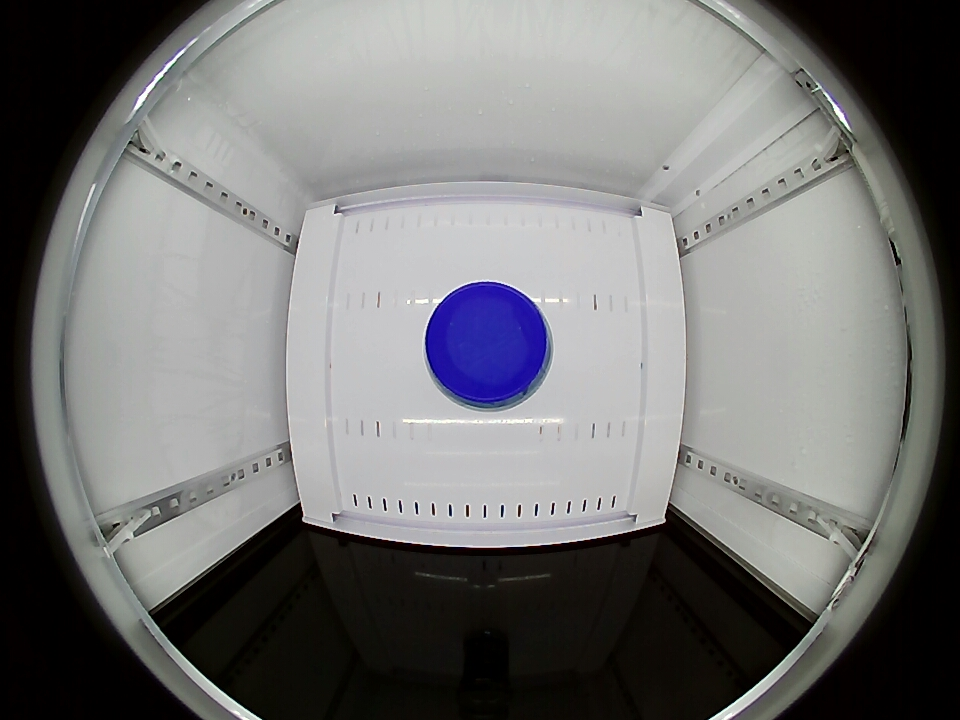maidong: (424, 282, 553, 410)
